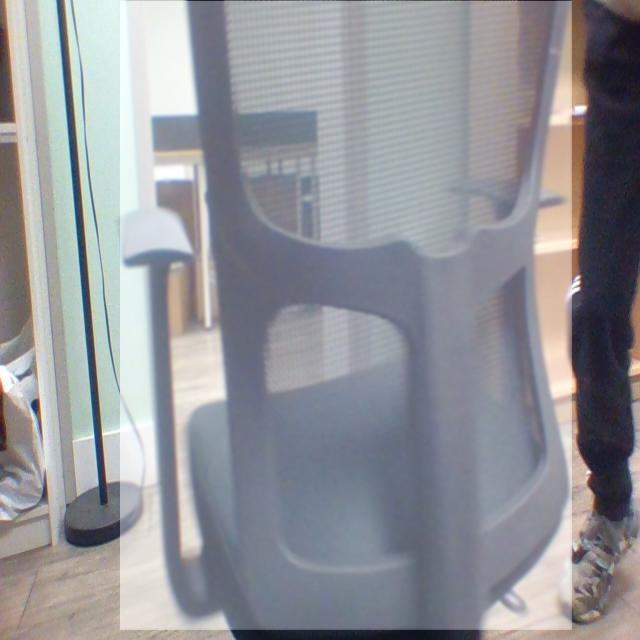black-chair: (120, 1, 573, 631)
